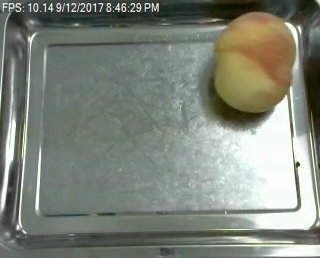Peach: (212, 10, 296, 113)
